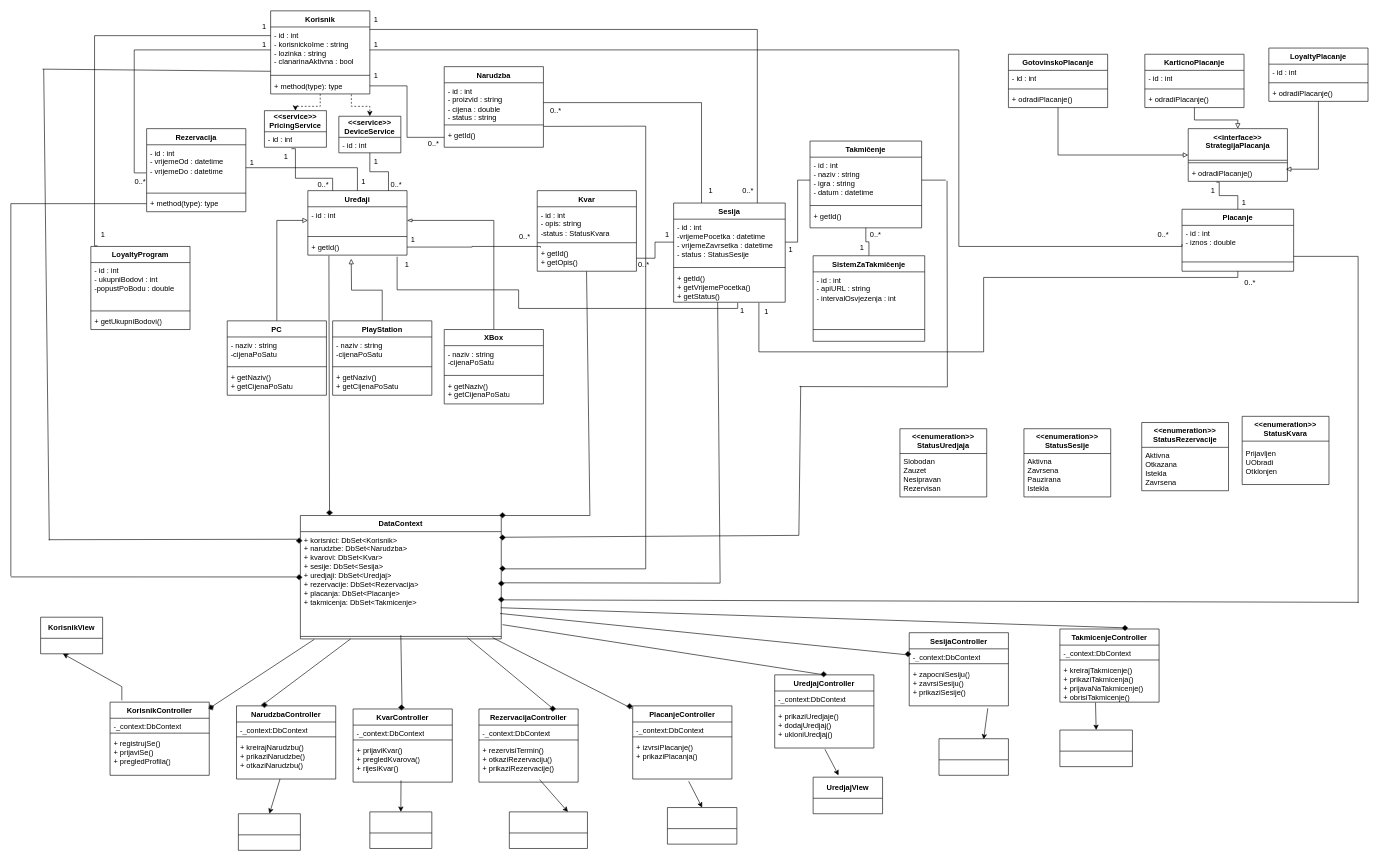
Some shapes in this 1379 by 861 pixel diagram are drawn without their labels. Each missing label, with the centre of its shape:
"KvarView" belongs at point 400,829.
"NarudzbaView" belongs at point 269,831.
"PlacanjeView" belongs at point 702,825.
"RezervacijaView" belongs at point 548,829.
"SesijaView" belongs at point 973,756.
"TakmicenjeView" belongs at point 1095,748.
